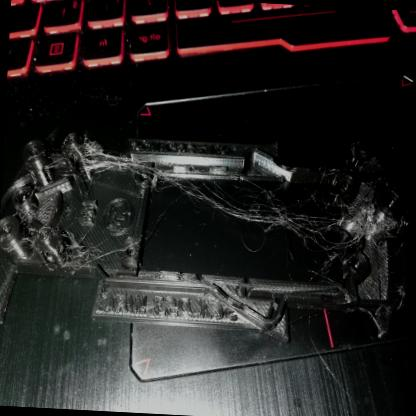fail: (159, 179, 337, 259), (352, 202, 393, 238), (60, 240, 107, 269)
